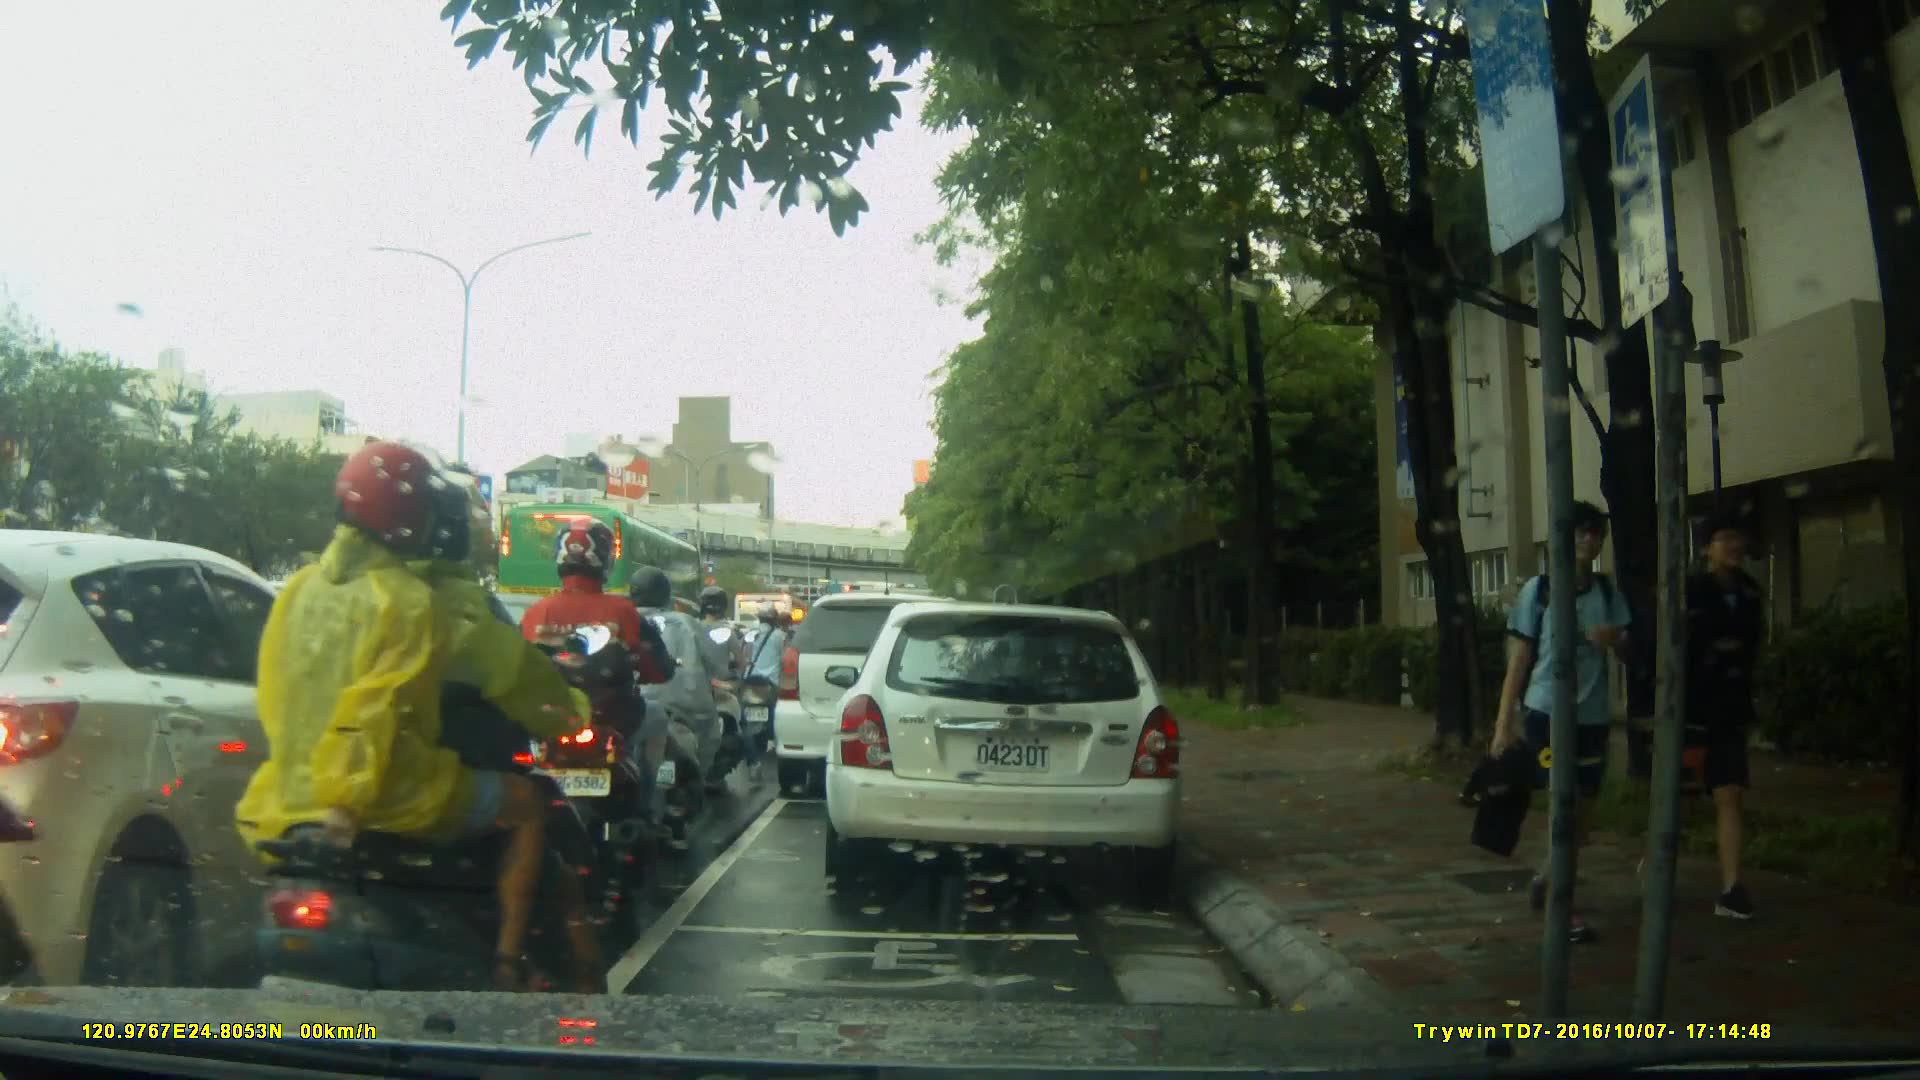pedestrian: (1453, 490, 1666, 955), (1633, 514, 1780, 929)
rider: (222, 442, 616, 1058), (511, 513, 672, 892), (599, 565, 731, 836), (678, 581, 759, 781), (738, 605, 803, 746), (767, 610, 806, 721)
vehicle: (2, 532, 459, 988), (831, 592, 1196, 897), (321, 590, 629, 776), (770, 590, 999, 804), (495, 501, 707, 636)
